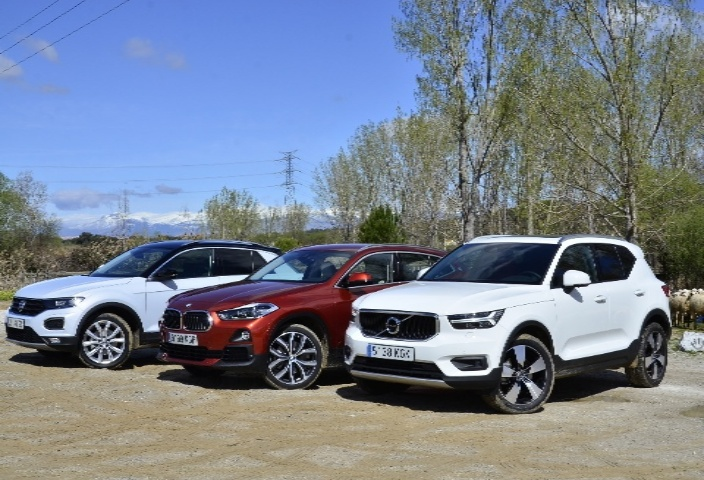camper: (346, 218, 698, 424), (153, 228, 459, 382), (13, 235, 311, 369)
